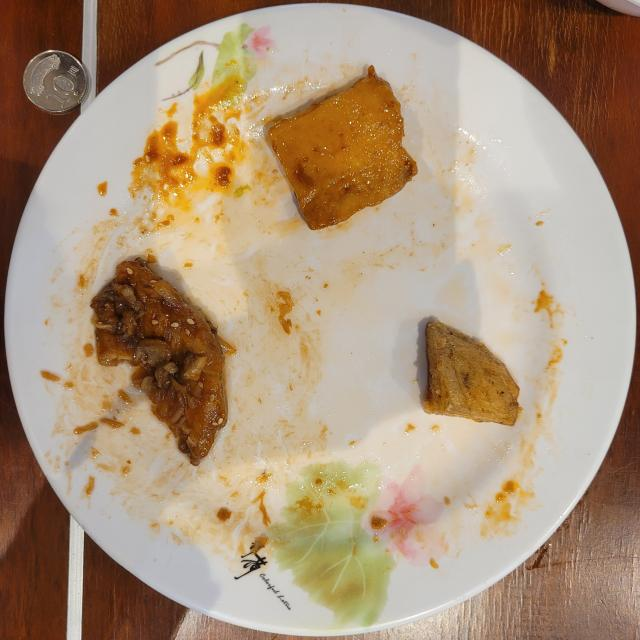Kabayaki sea bream fillet: (91, 258, 228, 465)
coin: (24, 50, 90, 114)
creamy tofu: (268, 66, 418, 230)
fried potato: (424, 321, 519, 425)
